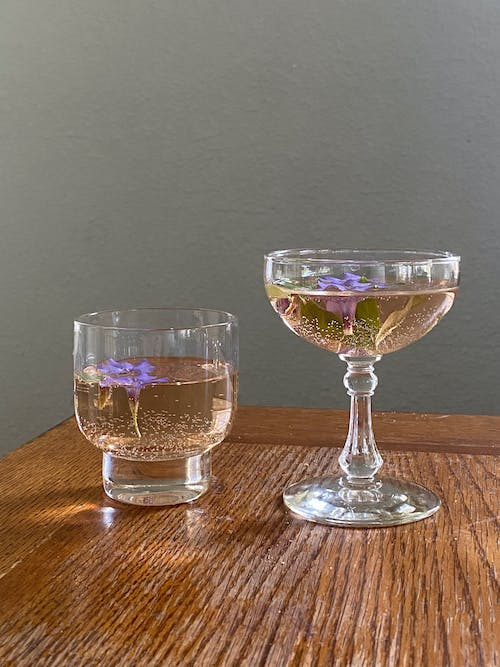alcohol: (260, 245, 463, 527), (72, 306, 242, 507)
